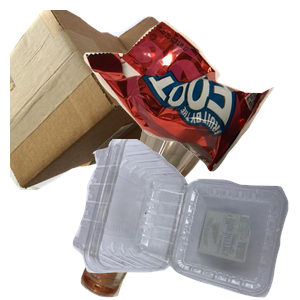cardboard: (10, 10, 206, 190)
glass: (78, 128, 298, 300)
plastic: (70, 139, 300, 300)
trash: (81, 18, 300, 182)
